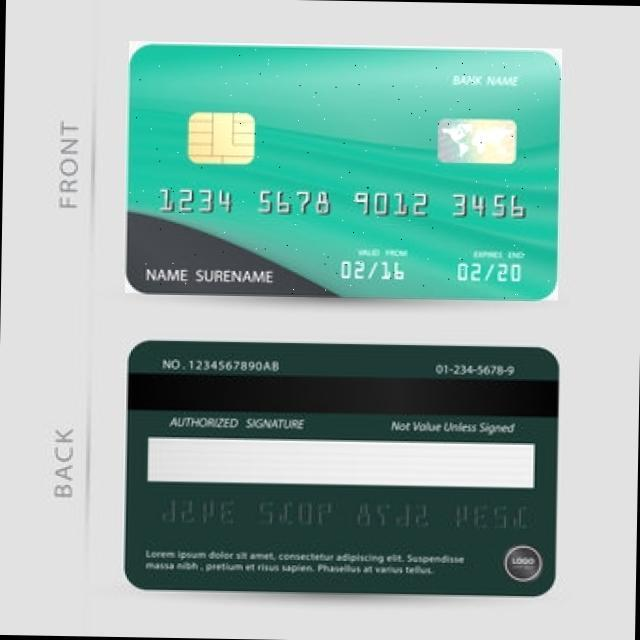payment_card: (124, 40, 562, 301), (123, 340, 559, 596)
